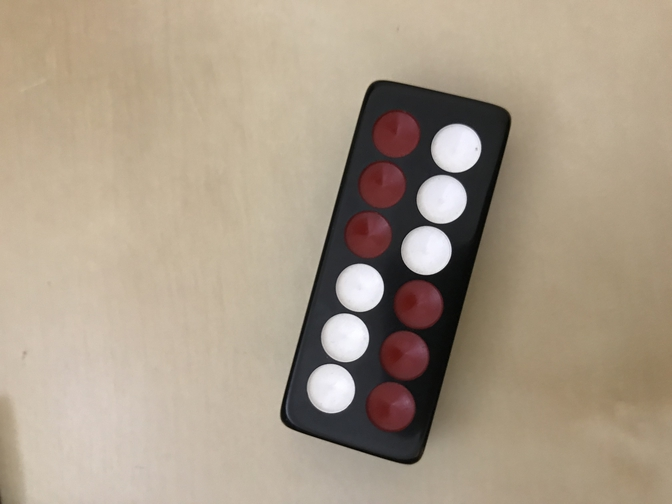heaven: (279, 79, 512, 465)
